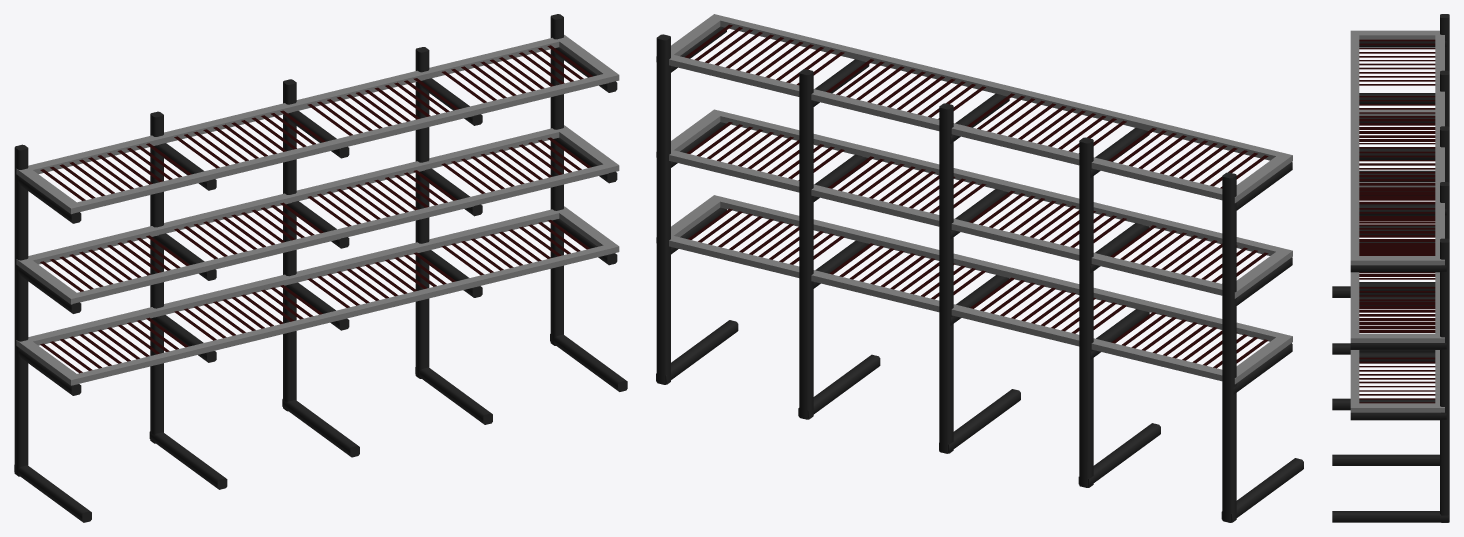
File: Shelf.FBX
3 renders of one model, left to right at view 1: azimuth 30°, elevation 25°; view 2: azimuth 150°, elevation 25°; view 3: azimuth 270°, elevation 25°, orthographic. The views are drawn at different scales.
Parts seen in each view (by area): view 1: Shelf; view 2: Shelf; view 3: Shelf.
Boxes of the visible parts, bbox=[...] form: Shelf: bbox=[14, 14, 627, 522]; Shelf: bbox=[656, 14, 1303, 522]; Shelf: bbox=[1332, 14, 1449, 522].
Bounding box in the file's own units: 562 × 320 × 121.
